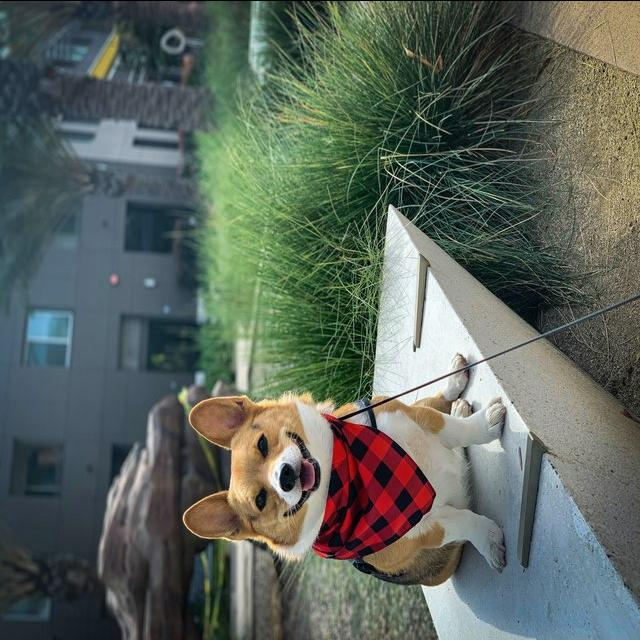corgi: (181, 351, 507, 587)
